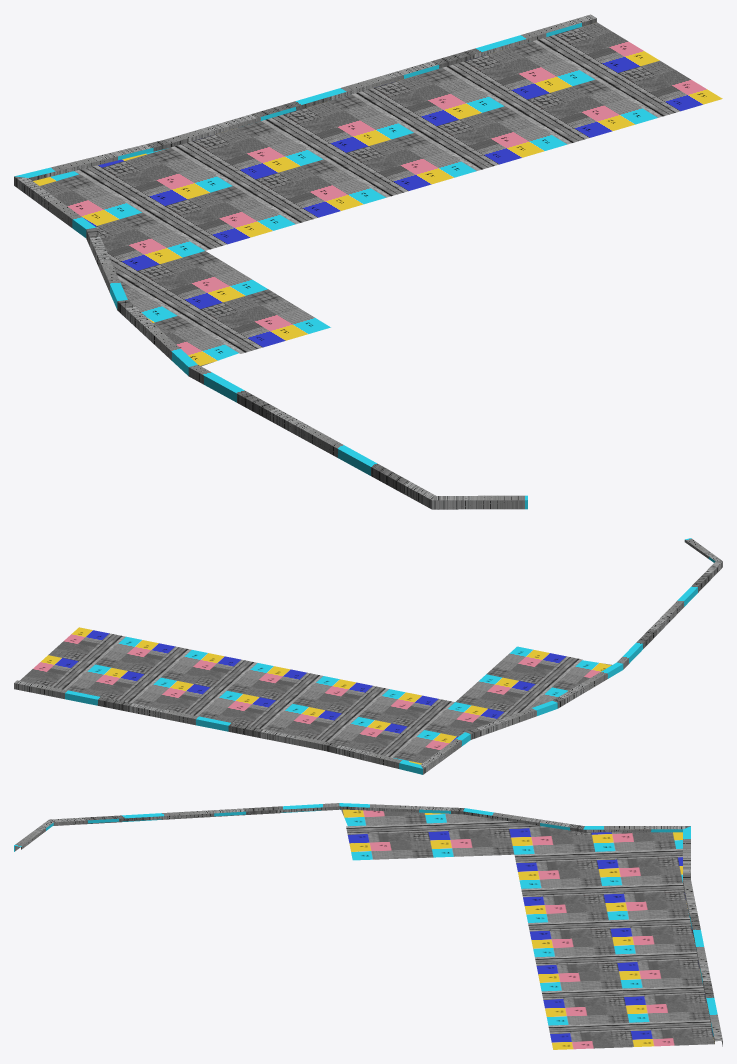
The model's file is chinatown_pavement_5.fbx.
The picture shows the model from 3 angles, top to bottom: view 1: azimuth 30°, elevation 25°; view 2: azimuth 150°, elevation 25°; view 3: azimuth 270°, elevation 25°; orthographic projection. The views are drawn at different scales.
Visible parts, largest first — view 1: chinatown_pavement_5; view 2: chinatown_pavement_5; view 3: chinatown_pavement_5.
Part boxes in pixels (x1,y1,x2,y2): chinatown_pavement_5: (14,14,722,509); chinatown_pavement_5: (14,538,722,774); chinatown_pavement_5: (14,803,722,1049).
Size of the model in its own units: 1067 by 13.87 by 1311.
